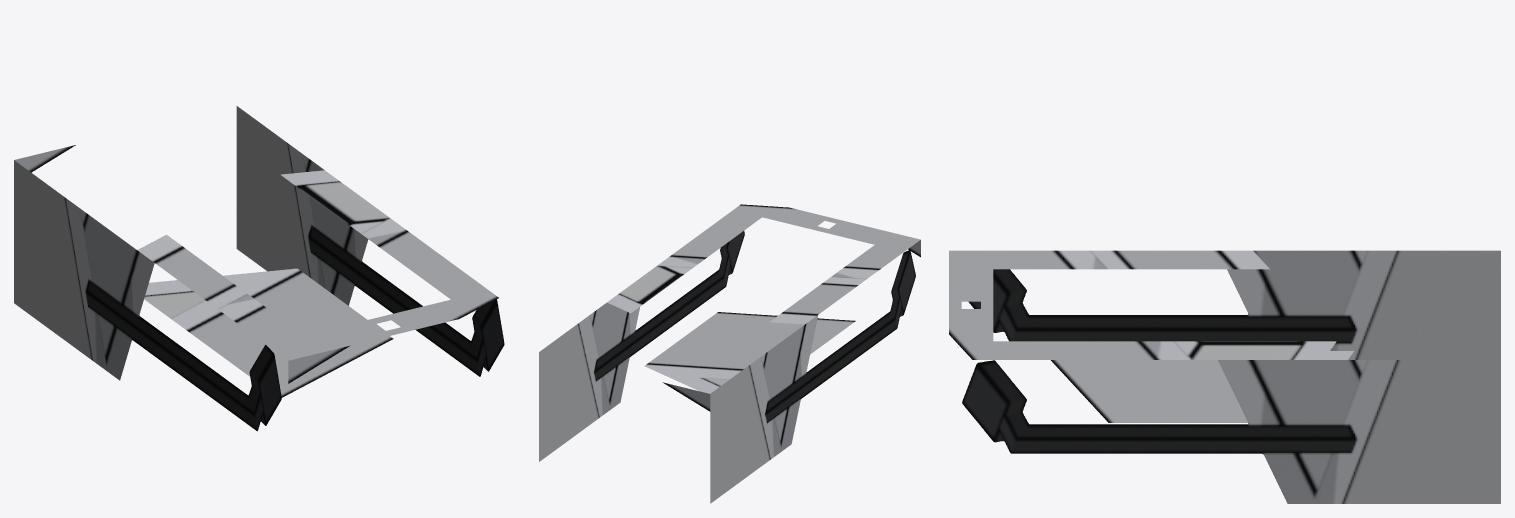
The model's file is BathTub.fbx.
3 views of the same model, side by side, from view 1: azimuth 30°, elevation 25°; view 2: azimuth 150°, elevation 25°; view 3: azimuth 270°, elevation 25° (orthographic). The views are drawn at different scales.
Visible parts, largest first — view 1: BathTub; view 2: BathTub; view 3: BathTub.
Part boxes in pixels (left/top/right/bottom): BathTub: left=14, top=106, right=504, bottom=431; BathTub: left=539, top=204, right=920, bottom=503; BathTub: left=949, top=250, right=1500, bottom=503.
Bounding box in the file's own units: 170 × 308 × 362.
